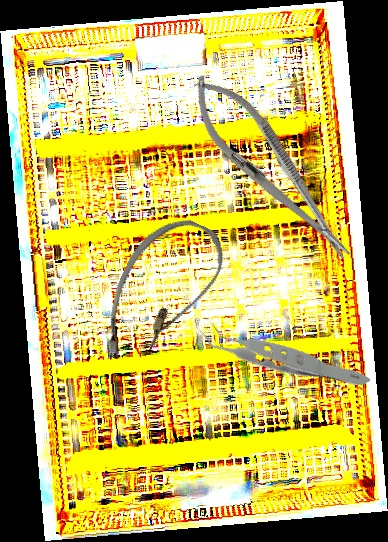Cannula: (88, 203, 235, 384)
Needle Holder: (174, 61, 368, 276)
Tissue Forceps: (193, 262, 372, 444)
